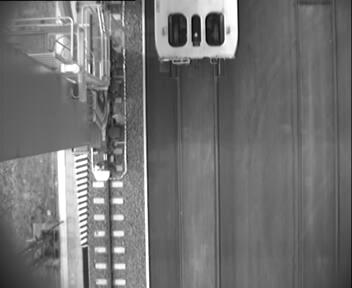wagon_scan: (165, 9, 229, 49)
